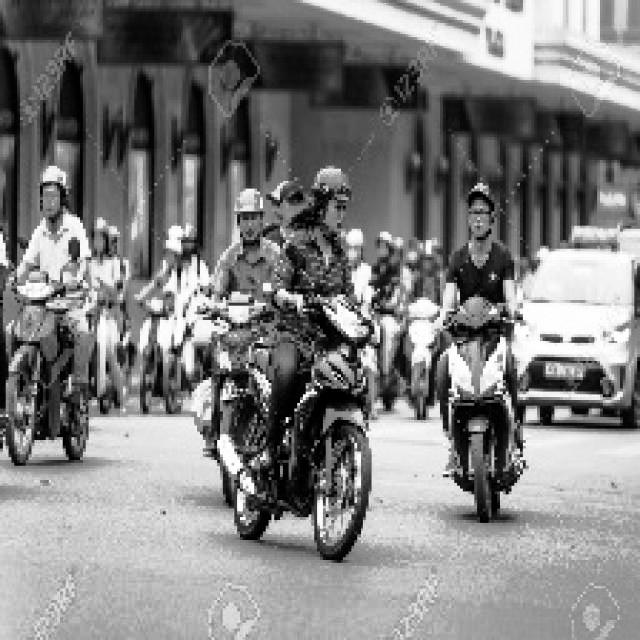Bike: (240, 307, 373, 559), (437, 293, 528, 522), (4, 274, 92, 462), (139, 289, 191, 422)
